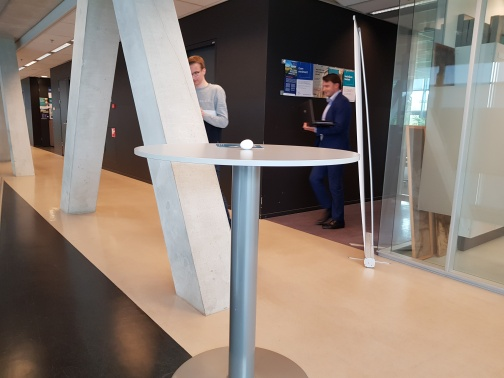egg: (238, 138, 256, 151)
